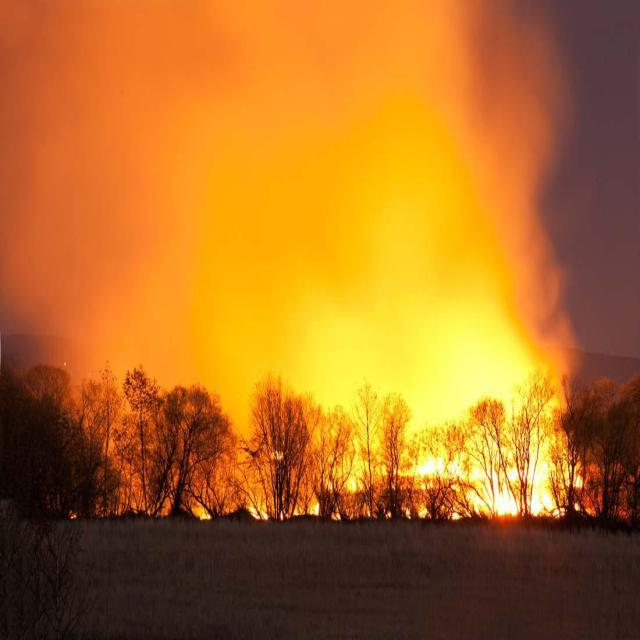fire: (88, 184, 588, 515)
